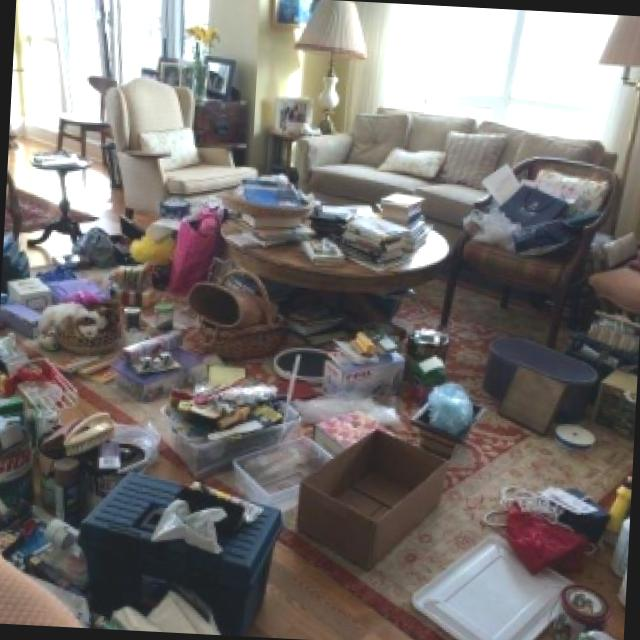mess: (146, 308, 492, 640), (0, 202, 192, 632), (490, 301, 640, 640), (304, 70, 640, 209), (225, 165, 473, 298)
